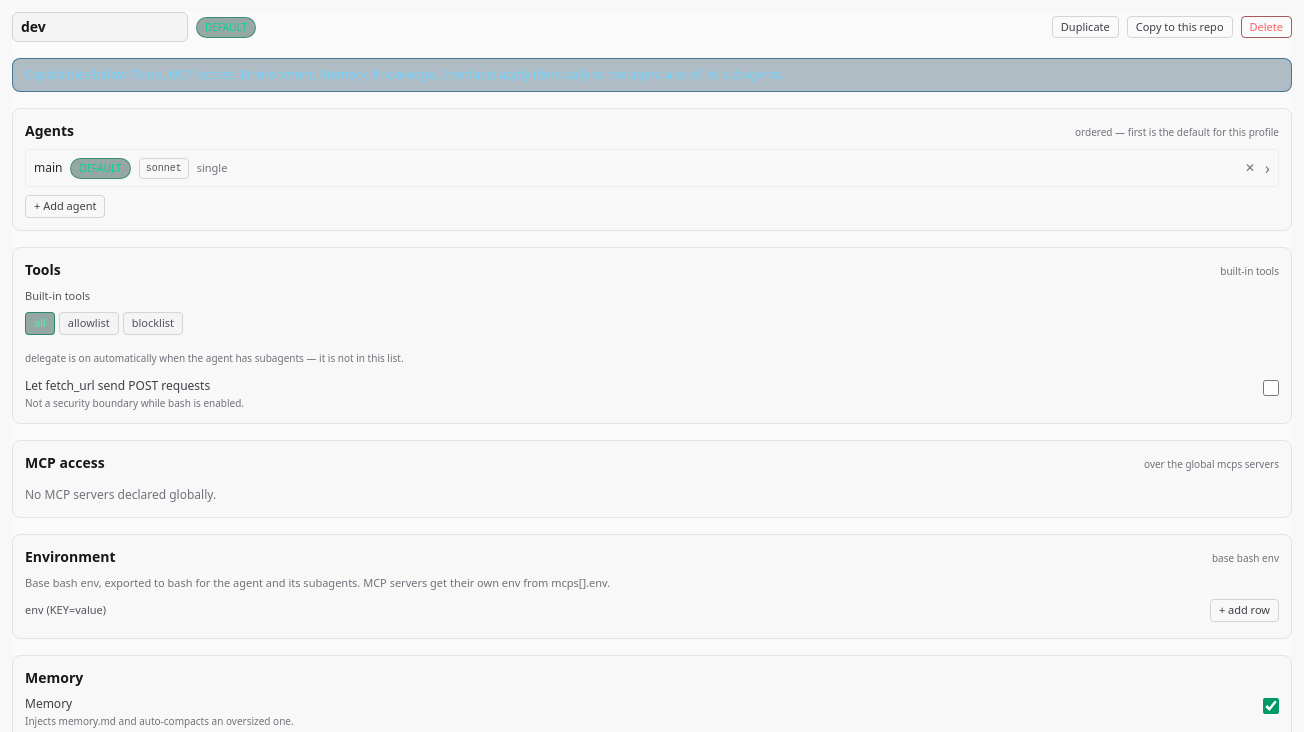
Test case: profiles list + profile page (T27) › copy_to_repo_suffix
Click the button with test id "profile-copy-repo": (1180, 27) [1127,16,1233,38]
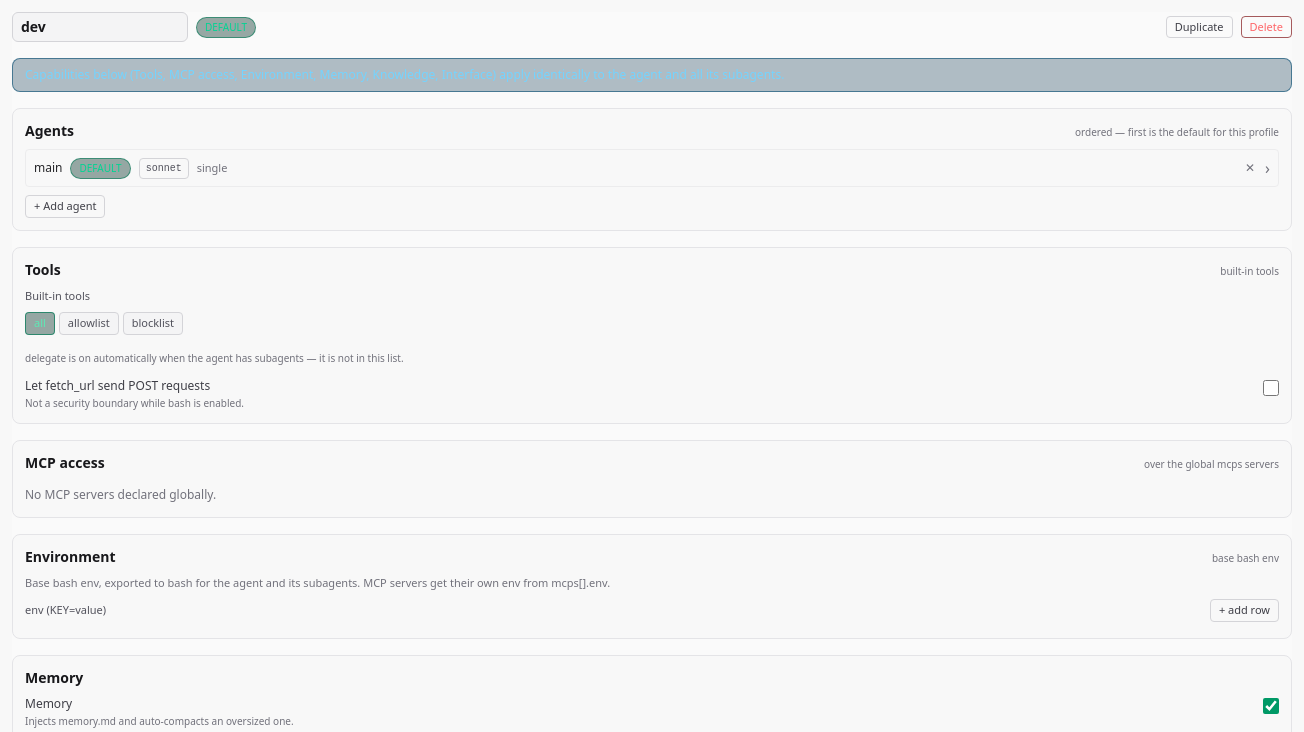
Expected: the button with test id "profile-copy-repo" is gone
